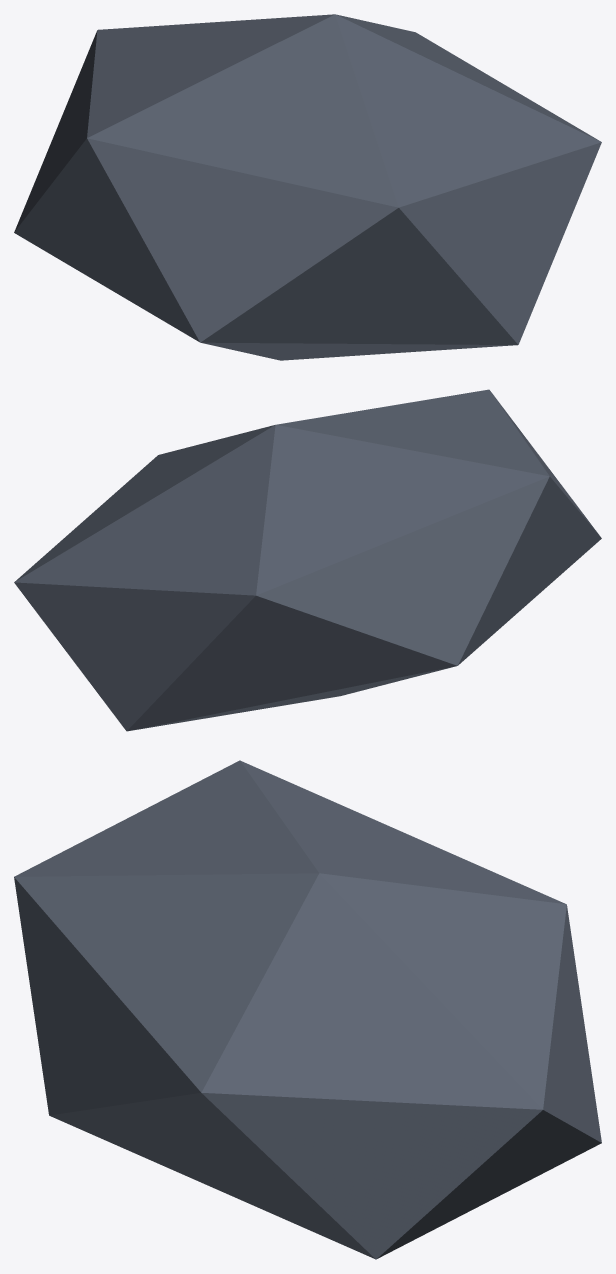
File: EXT_SouthCliff_01_Shard_1.glb
3 renders of one model, top to bottom at view 1: azimuth 30°, elevation 25°; view 2: azimuth 150°, elevation 25°; view 3: azimuth 270°, elevation 25°, orthographic. The views are drawn at different scales.
Parts seen in each view (by area): view 1: EXT_SouthCliff_01_Shard_1; view 2: EXT_SouthCliff_01_Shard_1; view 3: EXT_SouthCliff_01_Shard_1.
Boxes of the visible parts, <box> form: EXT_SouthCliff_01_Shard_1: <box>14,14,601,360</box>; EXT_SouthCliff_01_Shard_1: <box>14,389,601,731</box>; EXT_SouthCliff_01_Shard_1: <box>14,760,601,1259</box>.
Size of the model in its own units: 1.37 by 0.8191 by 1.43.
